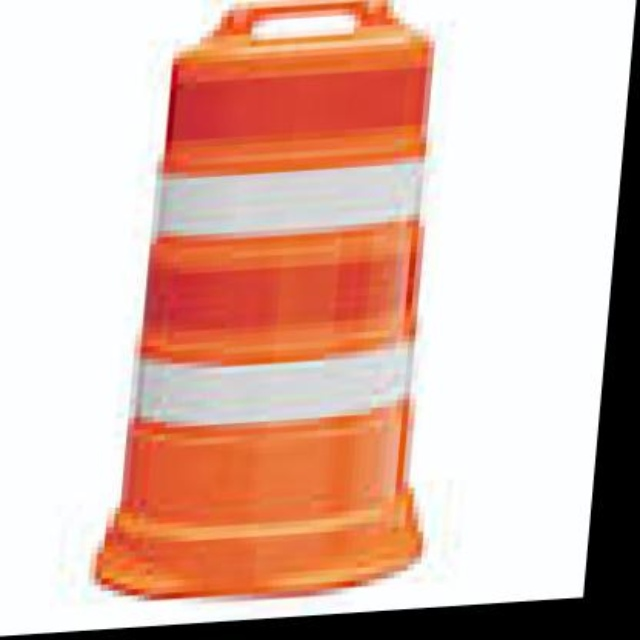obstacle: (123, 0, 473, 619)
